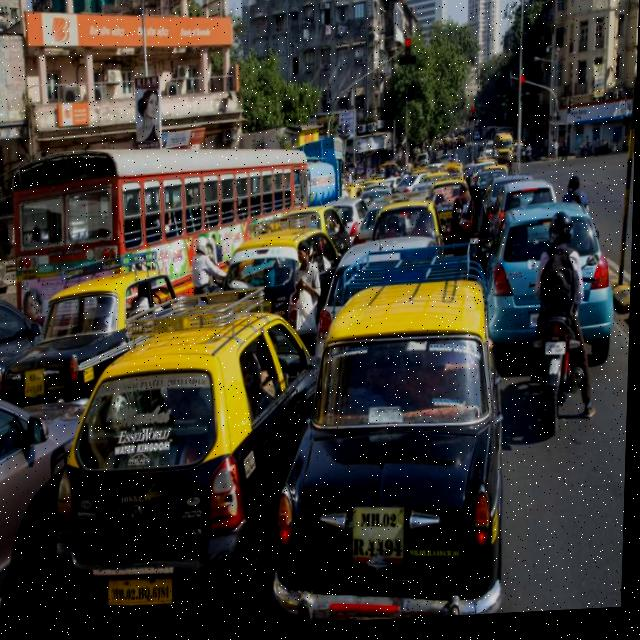plate: (353, 507, 410, 570), (108, 576, 179, 608), (23, 365, 51, 402), (548, 346, 569, 363)
